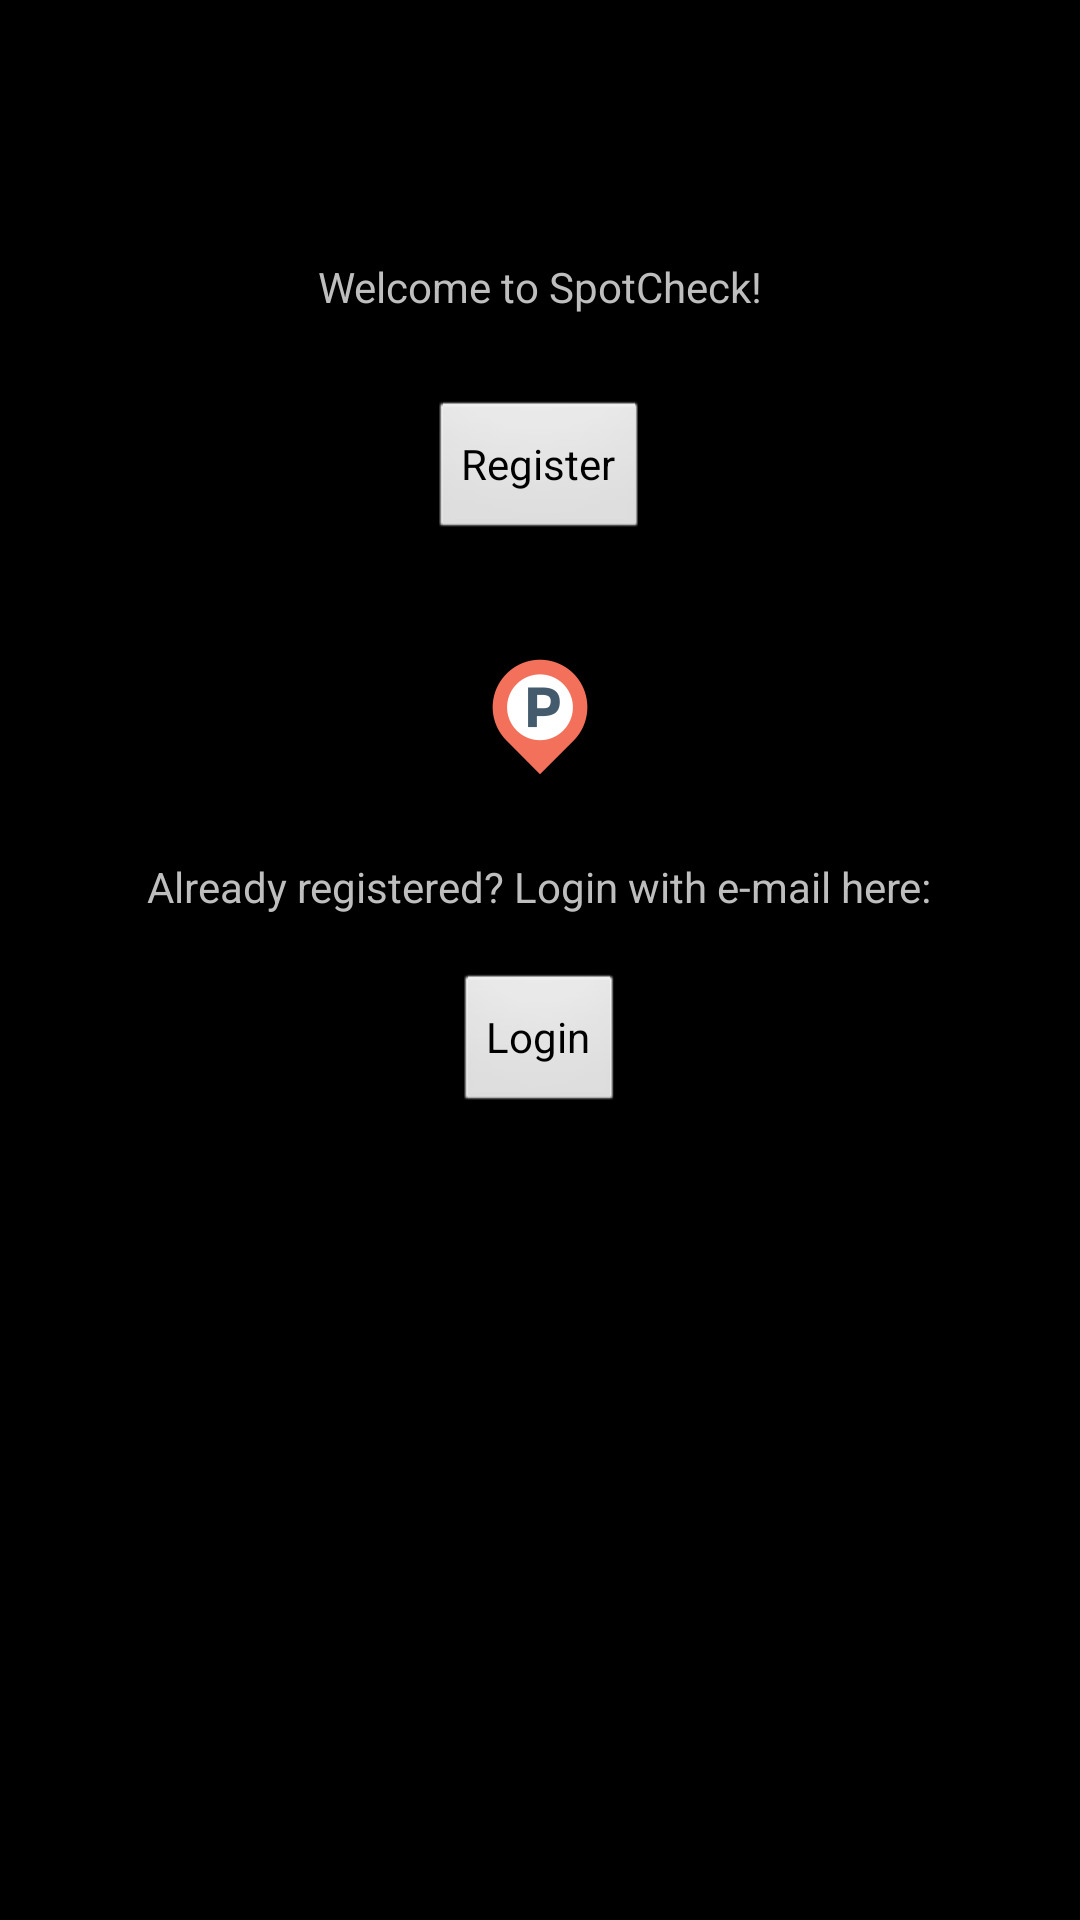

Locate icon controls on the screen. Image size 1080px×1920px, boxes as (x1, y1, x2, y2).
spot marker: (492, 659, 588, 774)
